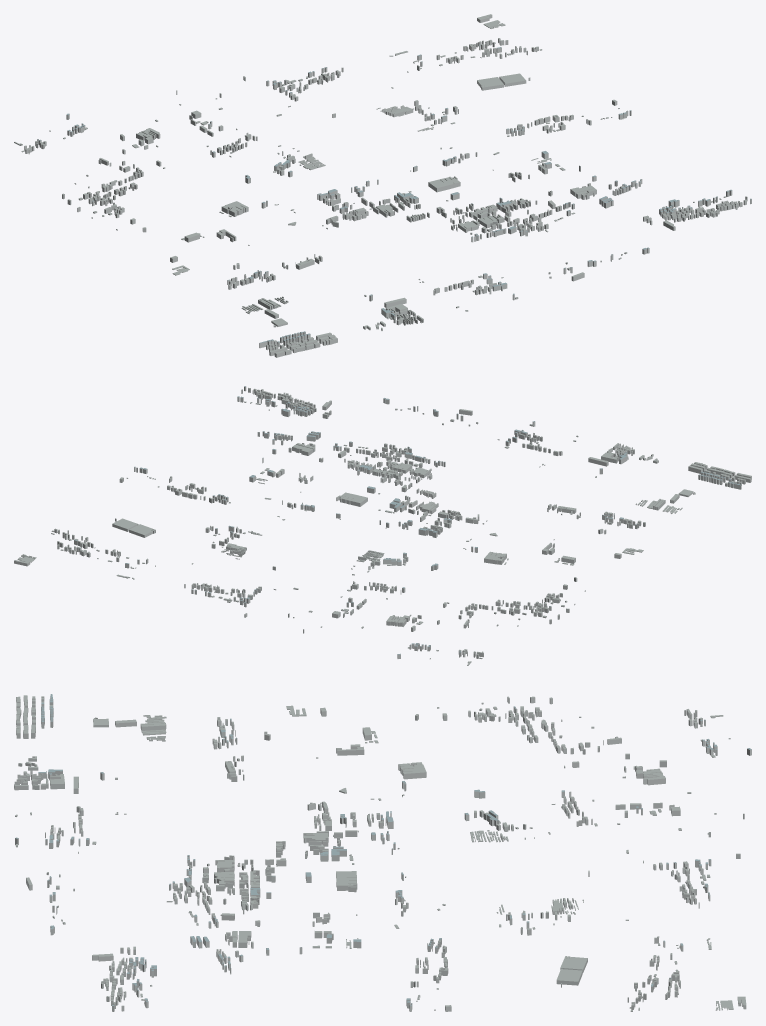
The model's file is far.glb.
3 views of the same model, one above another, from view 1: azimuth 30°, elevation 25°; view 2: azimuth 150°, elevation 25°; view 3: azimuth 270°, elevation 25° (orthographic). The views are drawn at different scales.
Bounding box in the file's own units: 2102 × 22.7 × 2101.
